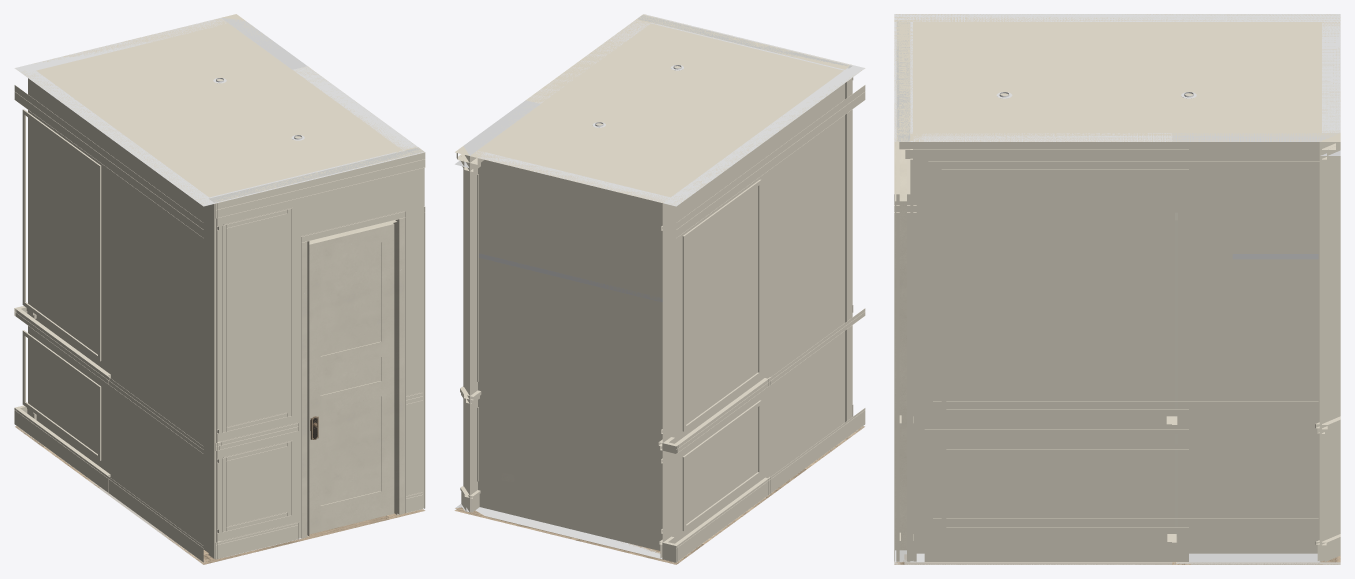
File: loli-closet-00abe9d4df72.glb
3 views of the same model, side by side, from view 1: azimuth 30°, elevation 25°; view 2: azimuth 150°, elevation 25°; view 3: azimuth 270°, elevation 25° (orthographic). The views are drawn at different scales.
Visible parts, largest first — view 1: loli-closet-6a1144f4e43410bb, loli-closet-0e637d2be41161fb, loli-closet-2575515a05775d9e, loli-closet-5b37b110dc0e2cdc, loli-closet-d6b1bc8c737b28e2, loli-closet-e1ae12ec9cba52a2, loli-closet-609bc1027670cc96, loli-closet-2c29ddcb8551cb02, loli-closet-e54d813e60c9e7c4, loli-closet-8c325fd3303e2546, loli-closet-cff4566edbc5d5ad, loli-closet-9d632b693d1b5808 (+16 smaller); view 2: loli-closet-e1ae12ec9cba52a2, loli-closet-6a1144f4e43410bb, loli-closet-2575515a05775d9e, loli-closet-0e637d2be41161fb, loli-closet-1c7325212038a6e7, loli-closet-2c29ddcb8551cb02, loli-closet-e54d813e60c9e7c4, loli-closet-cff4566edbc5d5ad, loli-closet-cc15fd6f291c811e, loli-closet-f6f53edb039cffb5, loli-closet-3b0077416469e01b, loli-closet-507cee9bdbce9ceb (+6 smaller); view 3: loli-closet-03bdd0165789d12b, loli-closet-1c7325212038a6e7, loli-closet-2575515a05775d9e, loli-closet-1bcbe5547b2cfbdc, loli-closet-92c333610bf7beb4, loli-closet-a8b6749dbb482e83, loli-closet-aaf71131b60d1226, loli-closet-b6646e2e222b858d, loli-closet-0b1205313859304a, loli-closet-b000e8b10159de15, loli-closet-6a1144f4e43410bb, loli-closet-d6b1bc8c737b28e2 (+12 smaller).
Boxes of the visible parts, x1=… form: loli-closet-6a1144f4e43410bb: x1=15, y1=65, x2=215, y2=562; loli-closet-0e637d2be41161fb: x1=208, y1=146, x2=424, y2=559; loli-closet-2575515a05775d9e: x1=16, y1=14, x2=424, y2=205; loli-closet-5b37b110dc0e2cdc: x1=309, y1=223, x2=394, y2=534; loli-closet-d6b1bc8c737b28e2: x1=302, y1=218, x2=404, y2=538; loli-closet-e1ae12ec9cba52a2: x1=28, y1=18, x2=226, y2=408; loli-closet-609bc1027670cc96: x1=215, y1=152, x2=425, y2=218; loli-closet-2c29ddcb8551cb02: x1=14, y1=408, x2=203, y2=562; loli-closet-e54d813e60c9e7c4: x1=14, y1=85, x2=203, y2=237; loli-closet-8c325fd3303e2546: x1=222, y1=209, x2=291, y2=432; loli-closet-cff4566edbc5d5ad: x1=22, y1=109, x2=101, y2=361; loli-closet-9d632b693d1b5808: x1=307, y1=219, x2=398, y2=536; loli-closet-e1ae12ec9cba52a2: x1=470, y1=151, x2=670, y2=558; loli-closet-6a1144f4e43410bb: x1=662, y1=65, x2=864, y2=543; loli-closet-2575515a05775d9e: x1=455, y1=14, x2=864, y2=205; loli-closet-0e637d2be41161fb: x1=637, y1=14, x2=852, y2=422; loli-closet-1c7325212038a6e7: x1=463, y1=100, x2=540, y2=511; loli-closet-2c29ddcb8551cb02: x1=676, y1=408, x2=865, y2=562; loli-closet-e54d813e60c9e7c4: x1=676, y1=85, x2=865, y2=237; loli-closet-cff4566edbc5d5ad: x1=682, y1=179, x2=761, y2=431; loli-closet-cc15fd6f291c811e: x1=470, y1=24, x2=655, y2=171; loli-closet-f6f53edb039cffb5: x1=682, y1=400, x2=761, y2=530; loli-closet-3b0077416469e01b: x1=454, y1=426, x2=864, y2=564; loli-closet-507cee9bdbce9ceb: x1=673, y1=378, x2=768, y2=453; loli-closet-03bdd0165789d12b: x1=913, y1=133, x2=1172, y2=562; loli-closet-1c7325212038a6e7: x1=1172, y1=133, x2=1340, y2=562; loli-closet-2575515a05775d9e: x1=894, y1=14, x2=1340, y2=141; loli-closet-1bcbe5547b2cfbdc: x1=924, y1=542, x2=1188, y2=562; loli-closet-92c333610bf7beb4: x1=928, y1=161, x2=1319, y2=405; loli-closet-a8b6749dbb482e83: x1=916, y1=534, x2=1319, y2=553; loli-closet-aaf71131b60d1226: x1=913, y1=141, x2=1188, y2=159; loli-closet-b6646e2e222b858d: x1=928, y1=436, x2=1319, y2=523; loli-closet-0b1205313859304a: x1=941, y1=169, x2=1188, y2=414; loli-closet-b000e8b10159de15: x1=916, y1=416, x2=1319, y2=425; loli-closet-6a1144f4e43410bb: x1=894, y1=14, x2=1340, y2=21; loli-closet-d6b1bc8c737b28e2: x1=895, y1=142, x2=906, y2=550.
Bounding box in the file's own units: 1.95 × 3.03 × 2.88.
Materials: 18 (3 with a texture image).
